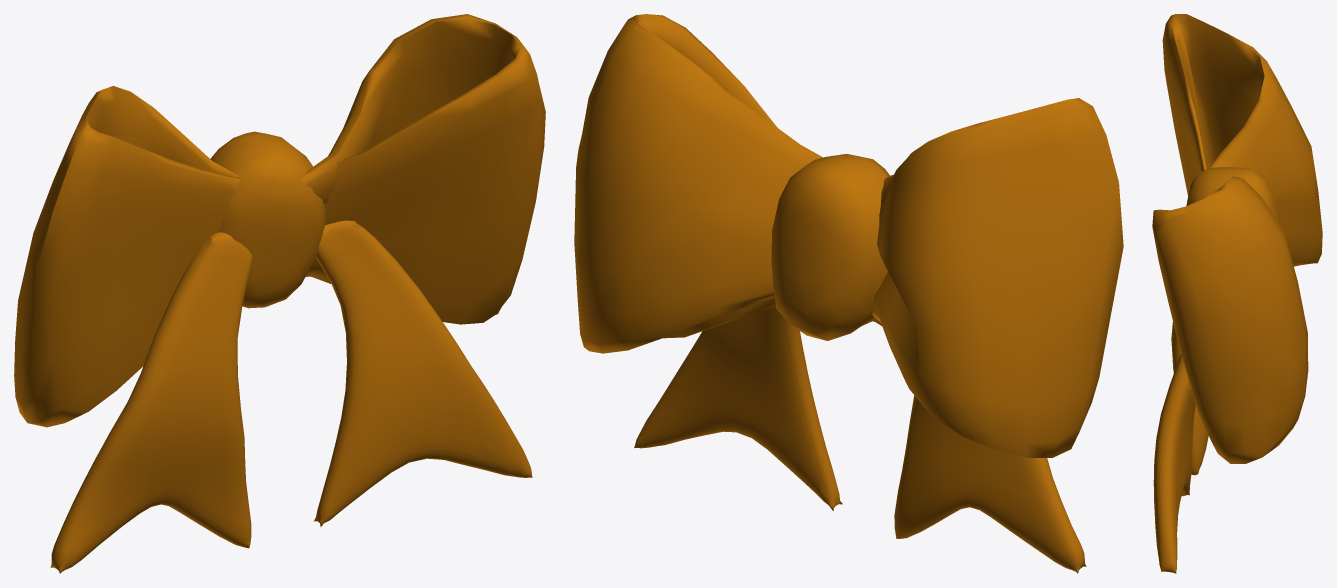
The model's file is pink-bow.FBX.
3 views of the same model, side by side, from view 1: azimuth 30°, elevation 25°; view 2: azimuth 150°, elevation 25°; view 3: azimuth 270°, elevation 25° (orthographic). The views are drawn at different scales.
Visible parts, largest first — view 1: Bow1, Bow2, Bow3; view 2: Bow1, Bow2, Bow3; view 3: Bow1, Bow2, Bow3.
Boxes of the visible parts, x1=… form: Bow1: x1=14, y1=14, x2=545, y2=427; Bow2: x1=50, y1=220, x2=532, y2=573; Bow3: x1=210, y1=131, x2=326, y2=308; Bow1: x1=574, y1=14, x2=1123, y2=457; Bow2: x1=634, y1=306, x2=1086, y2=573; Bow3: x1=771, y1=154, x2=889, y2=340; Bow1: x1=1152, y1=14, x2=1322, y2=463; Bow2: x1=1153, y1=322, x2=1208, y2=573; Bow3: x1=1186, y1=167, x2=1279, y2=223.
Size of the model in its own units: 17.69 by 15.49 by 6.06.
